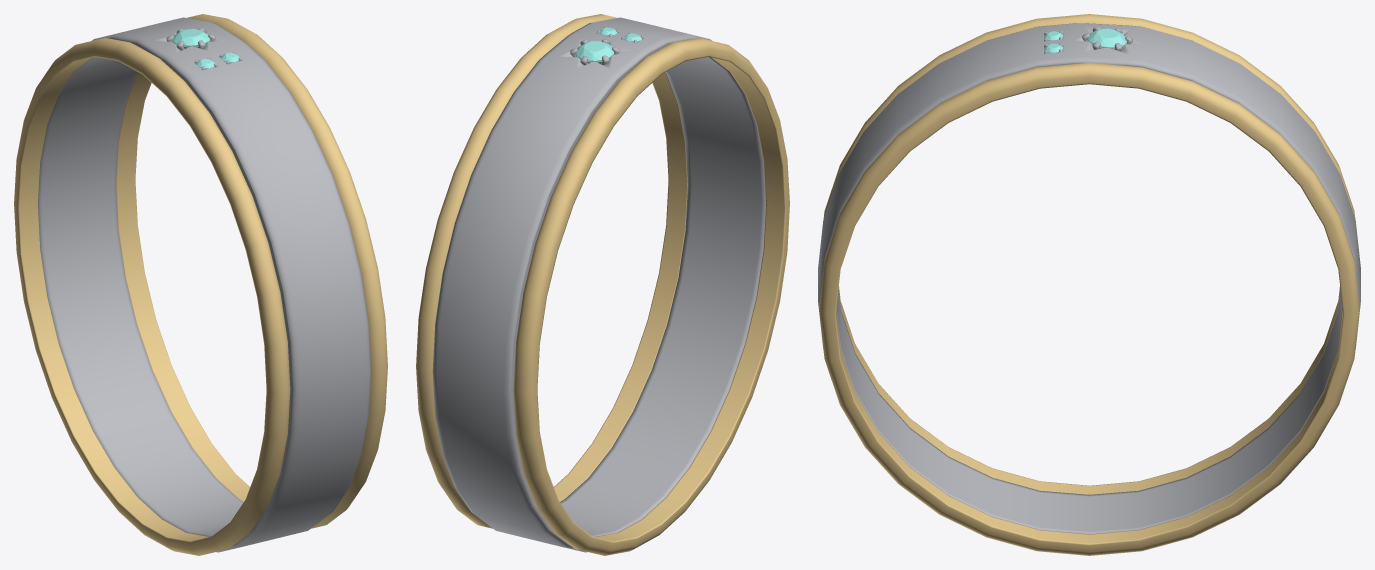
File: Ring_06.fbx
3 renders of one model, left to right at view 1: azimuth 30°, elevation 25°; view 2: azimuth 150°, elevation 25°; view 3: azimuth 270°, elevation 25°, orthographic. The views are drawn at different scales.
Parts seen in each view (by area): view 1: Ring_06; view 2: Ring_06; view 3: Ring_06.
Part boxes in pixels (x1,y1,x2,y2): Ring_06: [14, 14, 387, 555]; Ring_06: [416, 14, 789, 555]; Ring_06: [818, 14, 1360, 555].
Bounding box in the file's own units: 0.3958 × 1.57 × 1.55.
